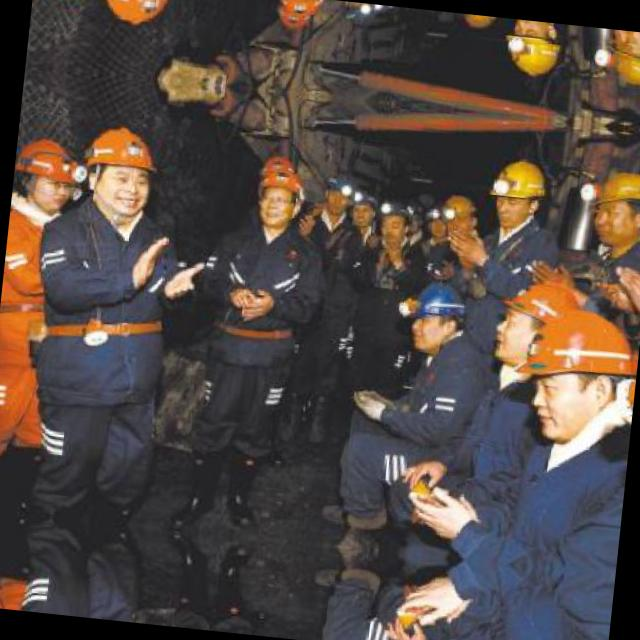helmet: (508, 292, 636, 438), (78, 116, 164, 220), (495, 279, 572, 369), (15, 132, 81, 212), (484, 152, 551, 230), (585, 159, 640, 246), (408, 279, 470, 346), (499, 18, 566, 80), (251, 155, 307, 229), (97, 0, 179, 34), (601, 28, 640, 94), (428, 186, 473, 237), (316, 166, 354, 214), (375, 200, 412, 248), (272, 0, 326, 27), (348, 184, 381, 227), (335, 1, 372, 30), (450, 12, 492, 33), (369, 4, 401, 18)
